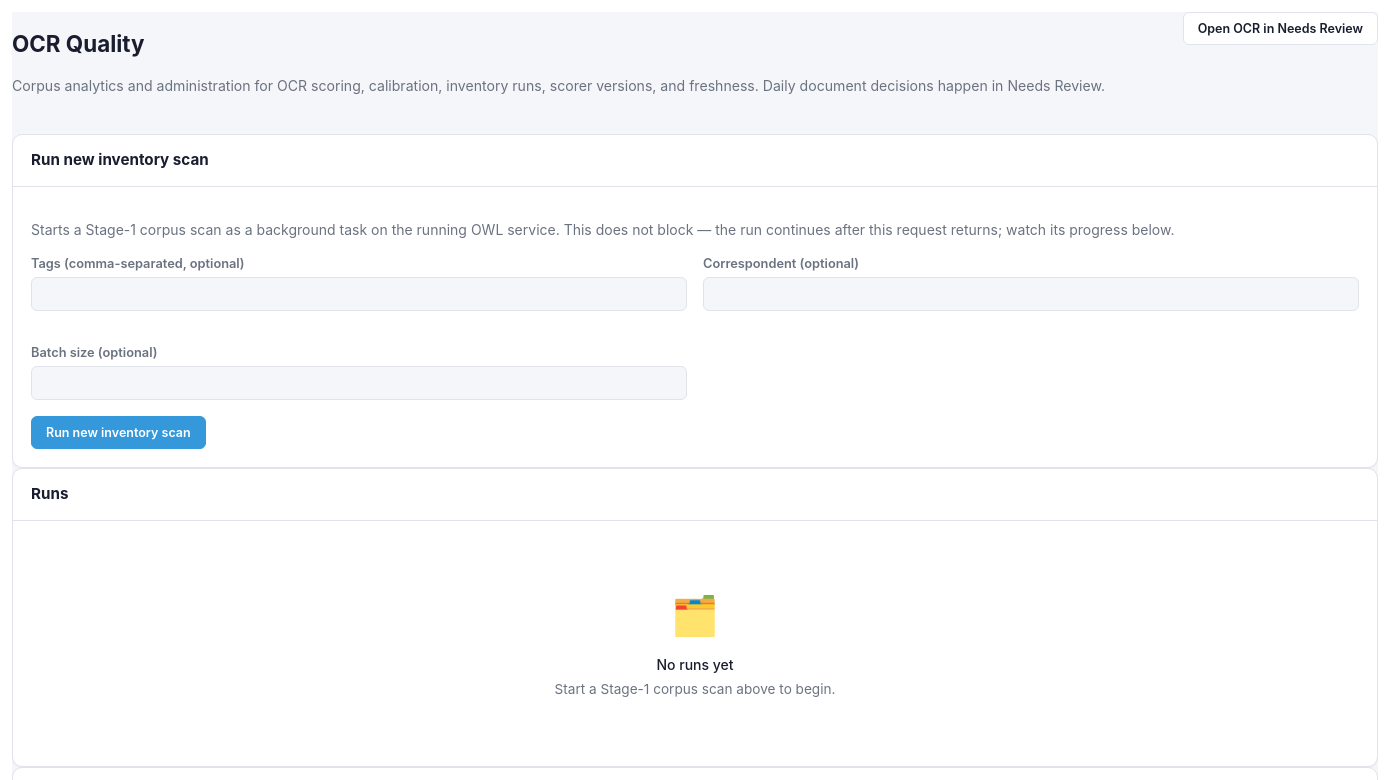
Test: OcrQualityDashboard — Runs panel (manual trigger, issue #30) › shows the conflicting run_id when a duplicate scan is already running (409)
Expected: the text "No runs yet" is shown, [656,656,734,674]
Click the button "Run new inventory scan" at x=118, y=432, box [31,416,206,449]
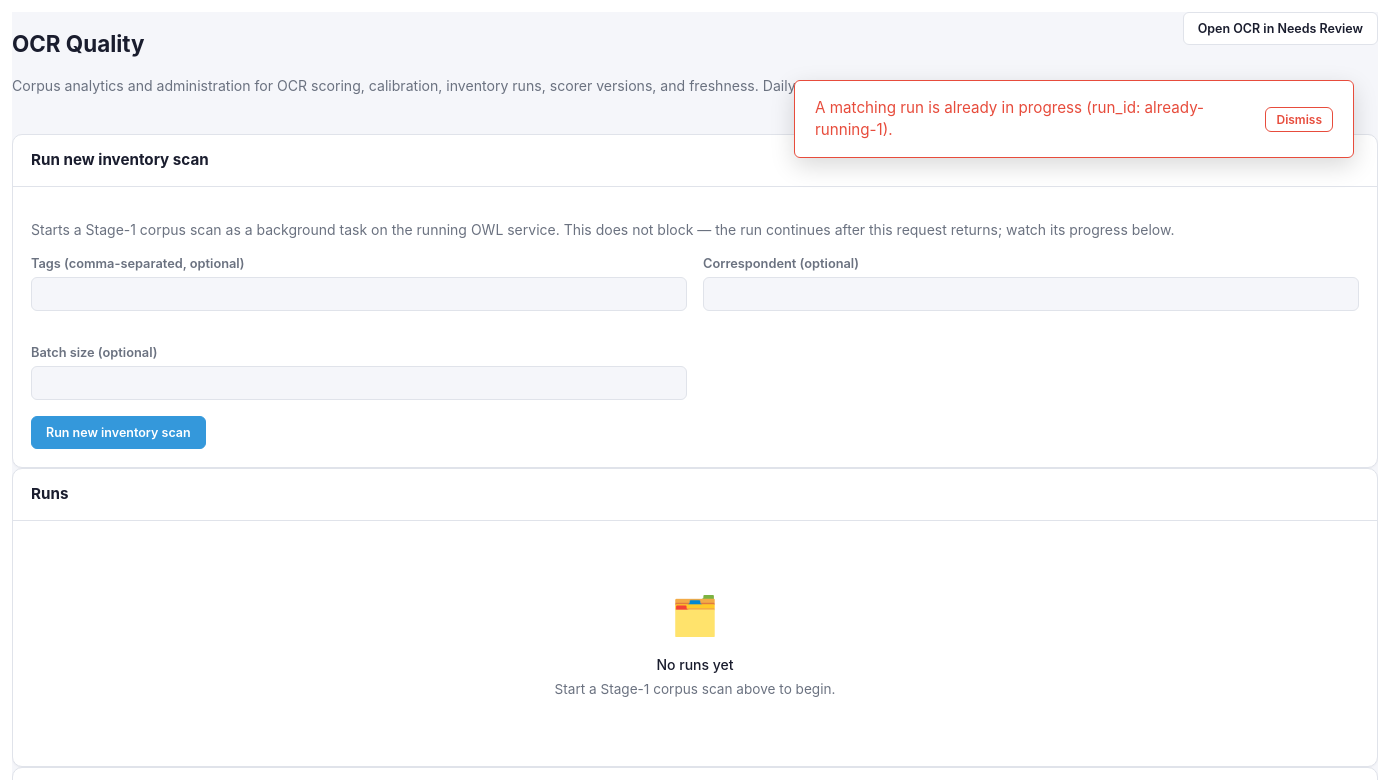
Now the text "already in progress (run_id: already-running-1)" is shown, box [815,98,1204,139]
